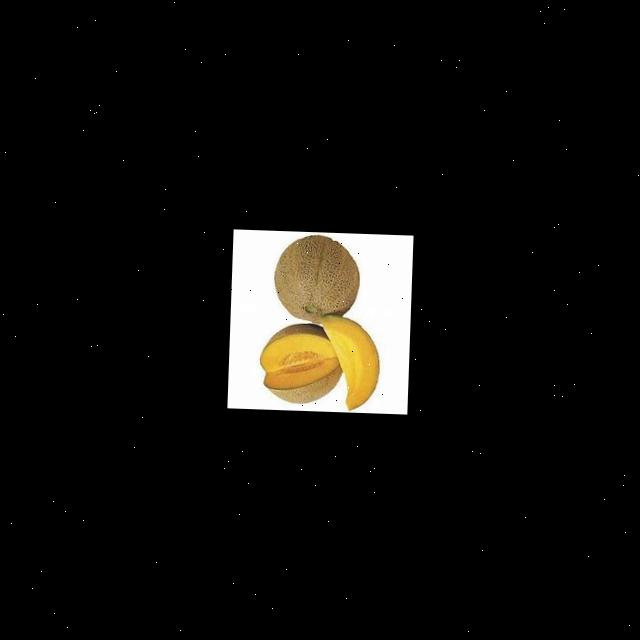Hami Melon: (272, 232, 361, 320), (257, 319, 344, 403), (318, 312, 382, 409)
